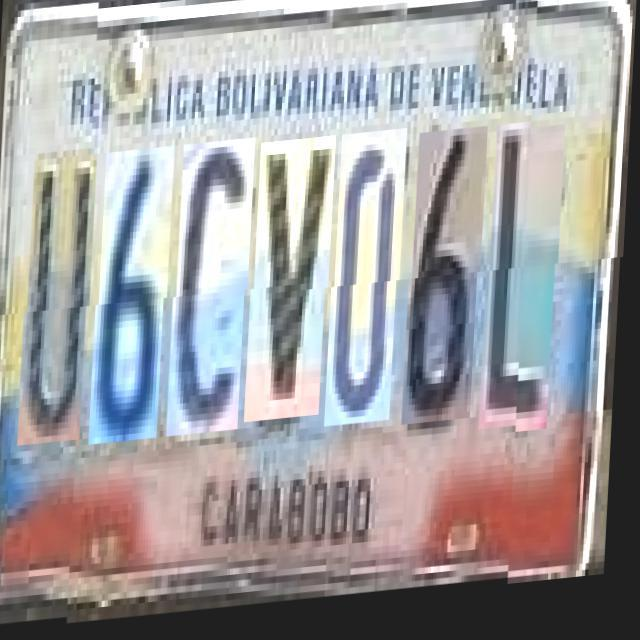0: (332, 137, 409, 434)
6: (410, 136, 490, 434), (96, 150, 176, 447)
C: (175, 144, 258, 440)
L: (487, 130, 568, 440)
U: (25, 156, 99, 453)
V: (252, 143, 338, 428)
